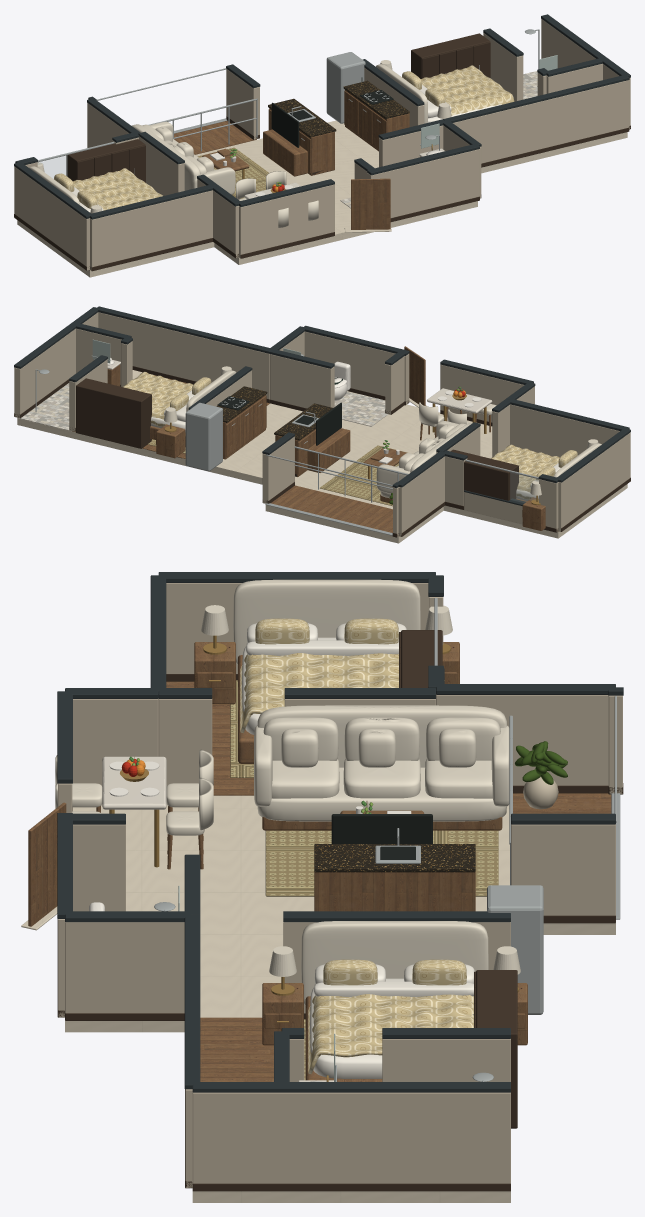
The picture shows the model from 3 angles, top to bottom: view 1: azimuth 30°, elevation 25°; view 2: azimuth 150°, elevation 25°; view 3: azimuth 270°, elevation 25°; orthographic projection. The views are drawn at different scales.
Visible parts, largest first — view 1: Ivory masonry.011, Apartment foundation, Ivory masonry.006, Ivory masonry.009, Ivory masonry.008, Ivory masonry.005, Soft jacquard duvet with folds.003, Soft jacquard duvet with folds.004, Open walnut door leaf, Brushed refrigerator, Ivory masonry, Ivory masonry.012 (+43 smaller); view 2: Apartment foundation, Ivory masonry.011, Dark fitted wardrobe, Ivory masonry.006, Ivory masonry.005, Ivory masonry.009, Ivory masonry.012, Ivory masonry.017, Brushed refrigerator, Ivory masonry.002, Dark fitted wardrobe.001, Ivory masonry.008 (+48 smaller); view 3: Ivory masonry.012, Apartment foundation, Ivory masonry.010, Ivory masonry, Padded headboard.004, Padded headboard.003, Ivory masonry.002, Soft jacquard duvet with folds.003, Kitchen cabinetry.001, Soft jacquard duvet with folds.004, Ivory masonry.007, Living woven carpet (+58 smaller).
Boxes of the visible parts, <box> form: Ivory masonry.011: <box>453,80,629,163</box>; Apartment foundation: <box>17,120,627,277</box>; Ivory masonry.006: <box>90,190,212,270</box>; Ivory masonry.009: <box>367,149,479,217</box>; Ivory masonry.008: <box>239,184,334,258</box>; Ivory masonry.005: <box>14,166,89,270</box>; Soft jacquard duvet with folds.003: <box>421,65,514,115</box>; Soft jacquard duvet with folds.004: <box>73,168,162,210</box>; Open walnut door leaf: <box>351,178,390,229</box>; Brushed refrigerator: <box>326,52,365,123</box>; Ivory masonry: <box>226,69,259,139</box>; Ivory masonry.012: <box>541,19,630,129</box>; Apartment foundation: <box>17,370,627,543</box>; Ivory masonry.011: <box>98,312,269,399</box>; Dark fitted wardrobe: <box>76,378,151,448</box>; Ivory masonry.006: <box>510,404,619,457</box>; Ivory masonry.005: <box>558,432,630,531</box>; Ivory masonry.009: <box>304,331,409,404</box>; Ivory masonry.012: <box>14,312,98,417</box>; Ivory masonry.017: <box>270,354,334,408</box>; Brushed refrigerator: <box>185,402,222,471</box>; Ivory masonry.002: <box>398,456,444,536</box>; Dark fitted wardrobe.001: <box>450,449,518,500</box>; Ivory masonry.008: <box>440,364,524,422</box>; Ivory masonry.012: <box>192,1092,510,1183</box>; Apartment foundation: <box>65,795,615,1202</box>; Ivory masonry.010: <box>65,922,184,1013</box>; Ivory masonry: <box>511,824,615,915</box>; Padded headboard.004: <box>233,579,420,664</box>; Padded headboard.003: <box>301,921,488,1005</box>; Ivory masonry.002: <box>436,694,608,785</box>; Soft jacquard duvet with folds.003: <box>308,994,473,1074</box>; Kitchen cabinetry.001: <box>314,872,475,911</box>; Soft jacquard duvet with folds.004: <box>240,653,398,733</box>; Ivory masonry.007: <box>73,698,158,786</box>; Living woven carpet: <box>265,830,498,896</box>.
Bounding box in the file's own units: 12.33 × 1.37 × 6.08.
Materials: 25 (6 with a texture image).
